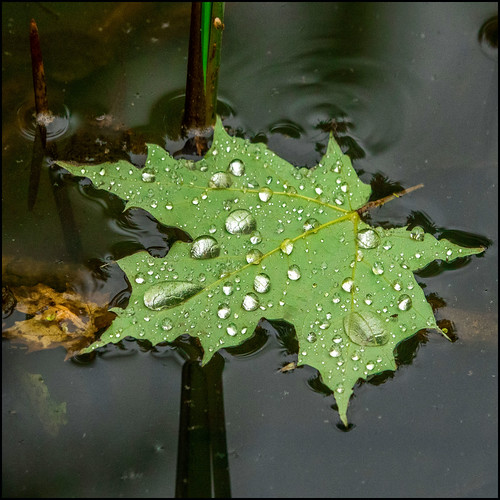river: (1, 1, 498, 492)
vegetation: (70, 97, 478, 426)
